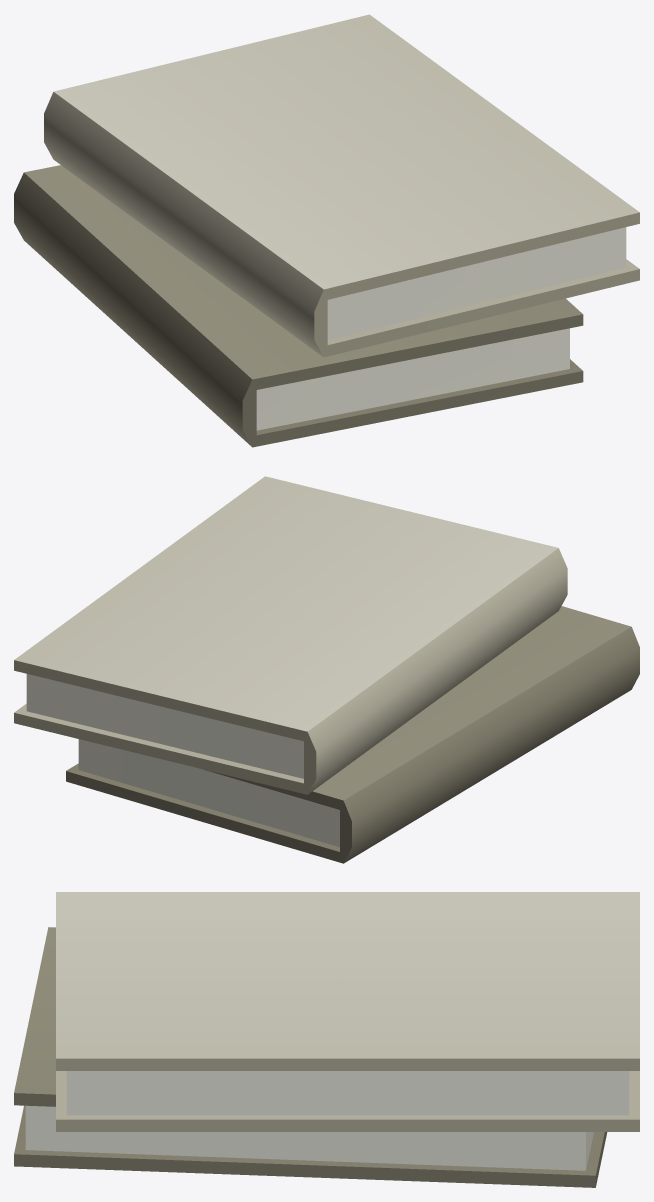
The model's file is CR_sci_Book_001.FBX.
3 views of the same model, one above another, from view 1: azimuth 30°, elevation 25°; view 2: azimuth 150°, elevation 25°; view 3: azimuth 270°, elevation 25° (orthographic). The views are drawn at different scales.
Parts seen in each view (by area): view 1: CR_sci_Book_001; view 2: CR_sci_Book_001; view 3: CR_sci_Book_001.
Boxes of the visible parts, left/top/right/bottom form: CR_sci_Book_001: left=14, top=14, right=639, bottom=447; CR_sci_Book_001: left=14, top=476, right=639, bottom=863; CR_sci_Book_001: left=14, top=892, right=639, bottom=1187.
Size of the model in its own units: 16.45 by 5.38 by 20.62.
